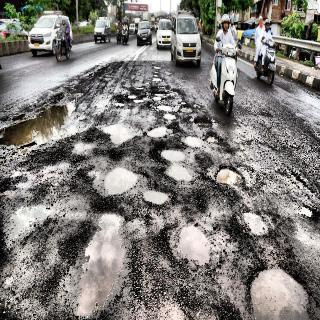pothole: (2, 99, 309, 320), (125, 61, 173, 103)
